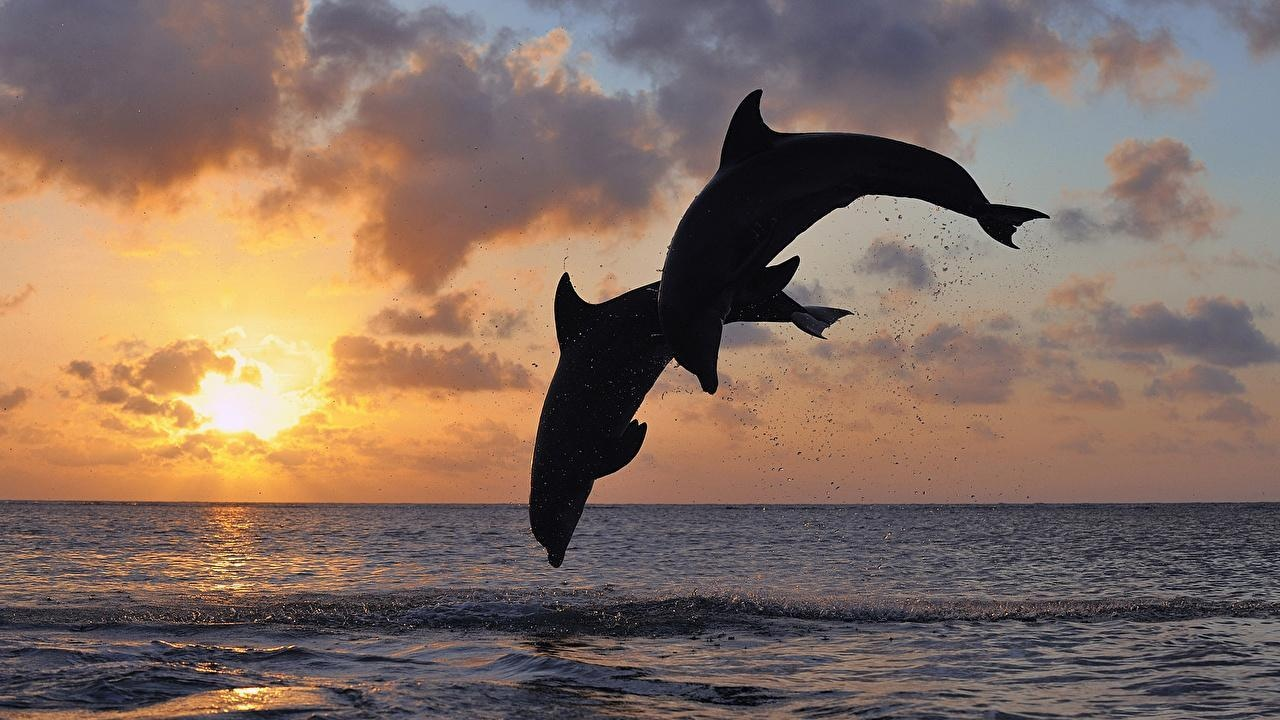fish: (656, 89, 1053, 393), (522, 252, 856, 568)
